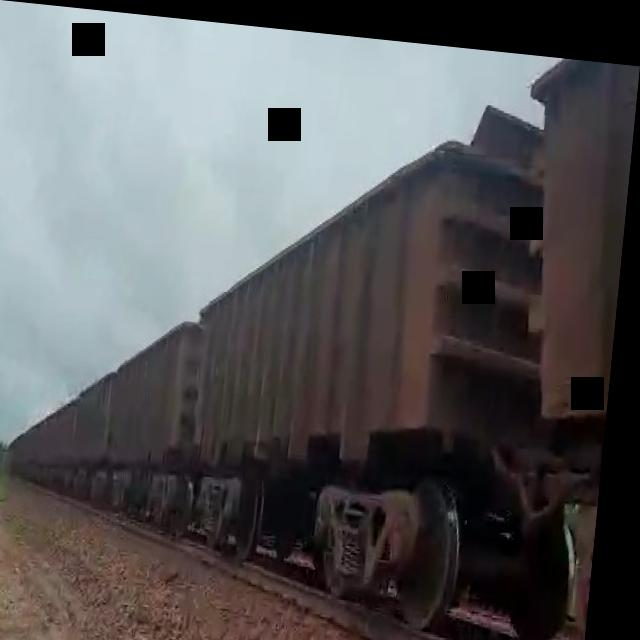gondola: (180, 58, 548, 631), (487, 44, 640, 640), (111, 295, 205, 526)
